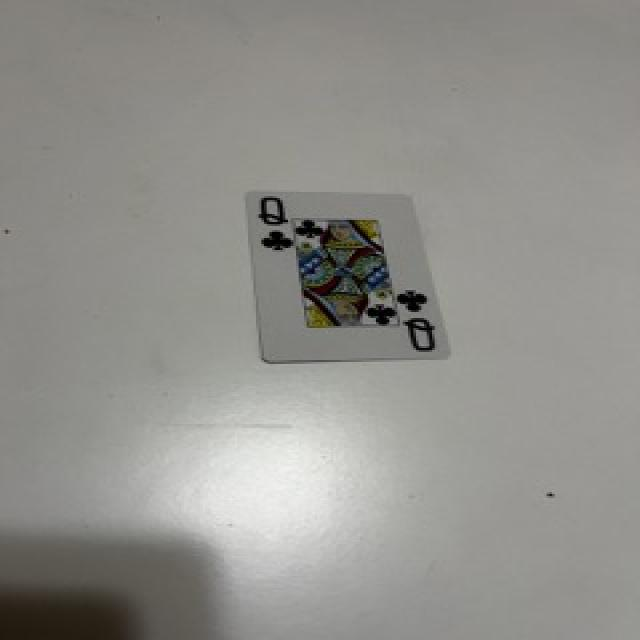Queen of clubs: (249, 192, 447, 359)
